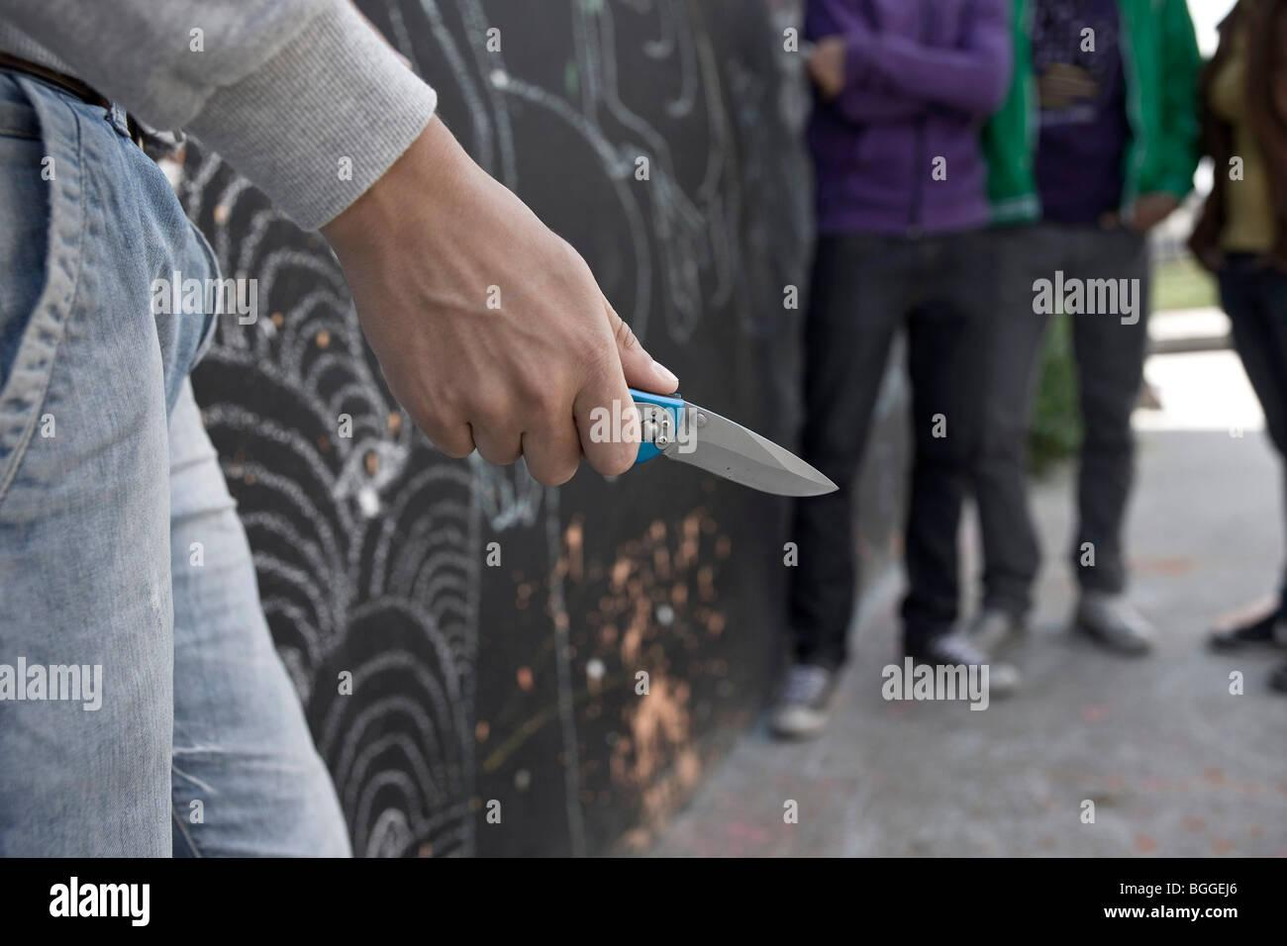Knife: (0, 0, 679, 852), (775, 0, 1018, 724), (974, 0, 1199, 656), (371, 219, 677, 481), (1203, 0, 1287, 690), (634, 383, 842, 503)
